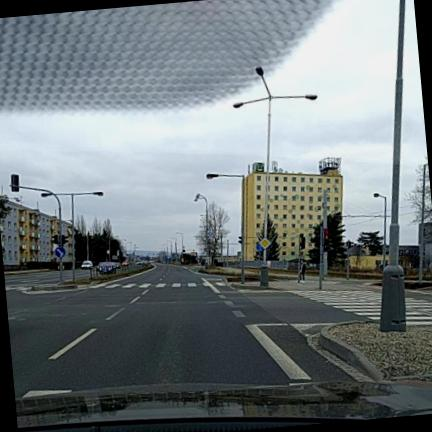Road: (6, 265, 378, 397)
